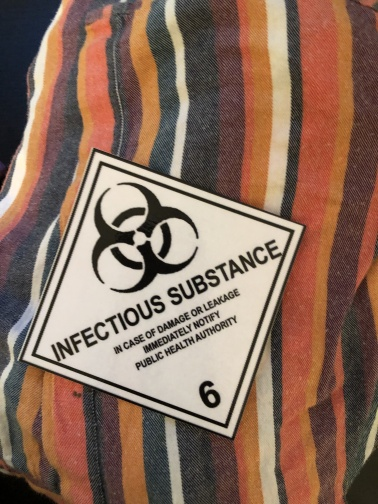InfectiousSubstance: (21, 148, 306, 438)
